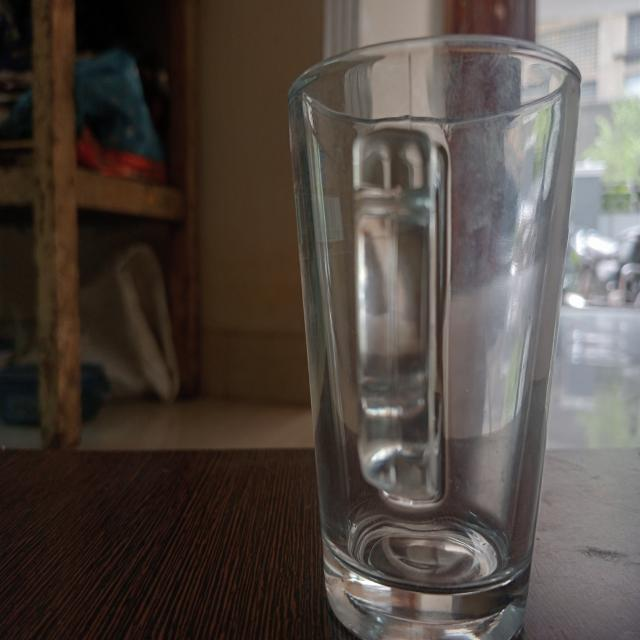glass-VX4N: (288, 35, 575, 640)
